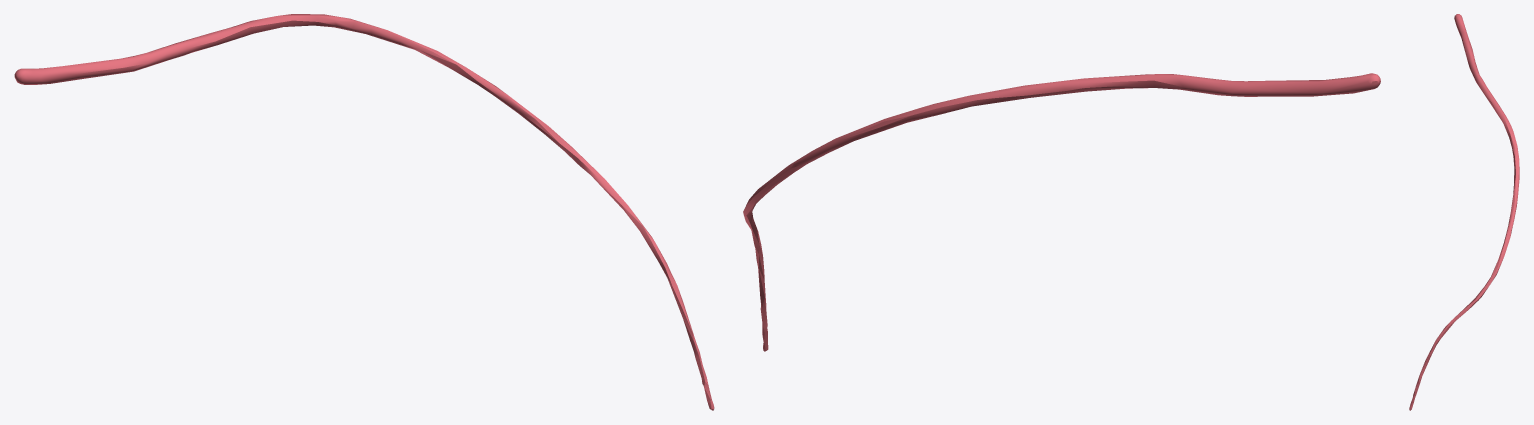
File: fma68068_fj3449.glb
3 views of the same model, side by side, from view 1: azimuth 30°, elevation 25°; view 2: azimuth 150°, elevation 25°; view 3: azimuth 270°, elevation 25° (orthographic). The views are drawn at different scales.
Parts seen in each view (by area): view 1: FMA68068_FJ3449; view 2: FMA68068_FJ3449; view 3: FMA68068_FJ3449.
Part boxes in pixels (x1=…): FMA68068_FJ3449: x1=14, y1=14, x2=714, y2=410; FMA68068_FJ3449: x1=743, y1=73, x2=1380, y2=351; FMA68068_FJ3449: x1=1409, y1=14, x2=1519, y2=410.
Size of the model in its own units: 0.0792 by 0.0538 by 0.0228.
